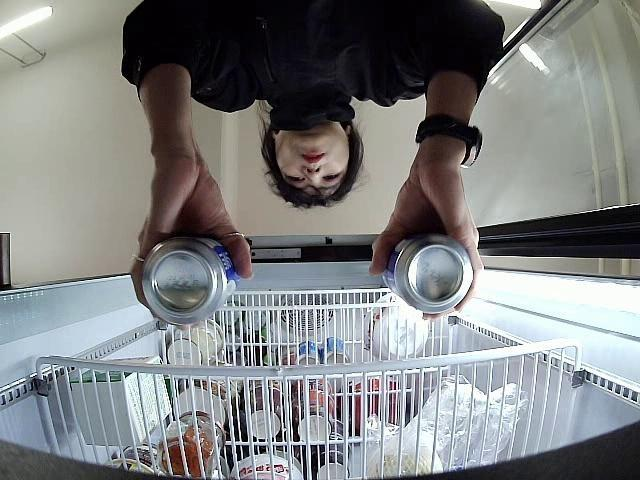13_pocariSweat: (141, 234, 238, 327), (382, 232, 474, 316)
